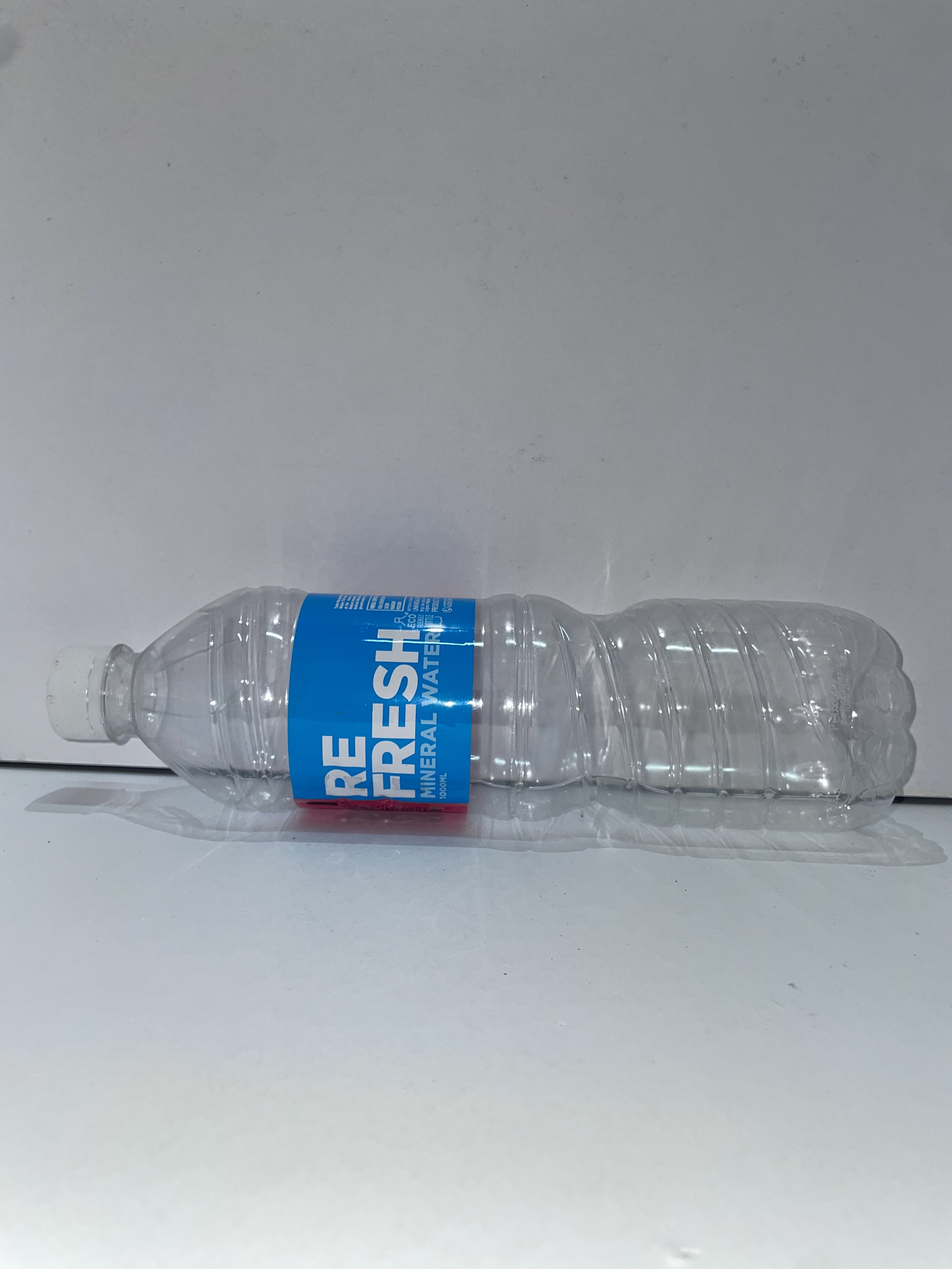Refresh 1000ml: (47, 587, 914, 828)
